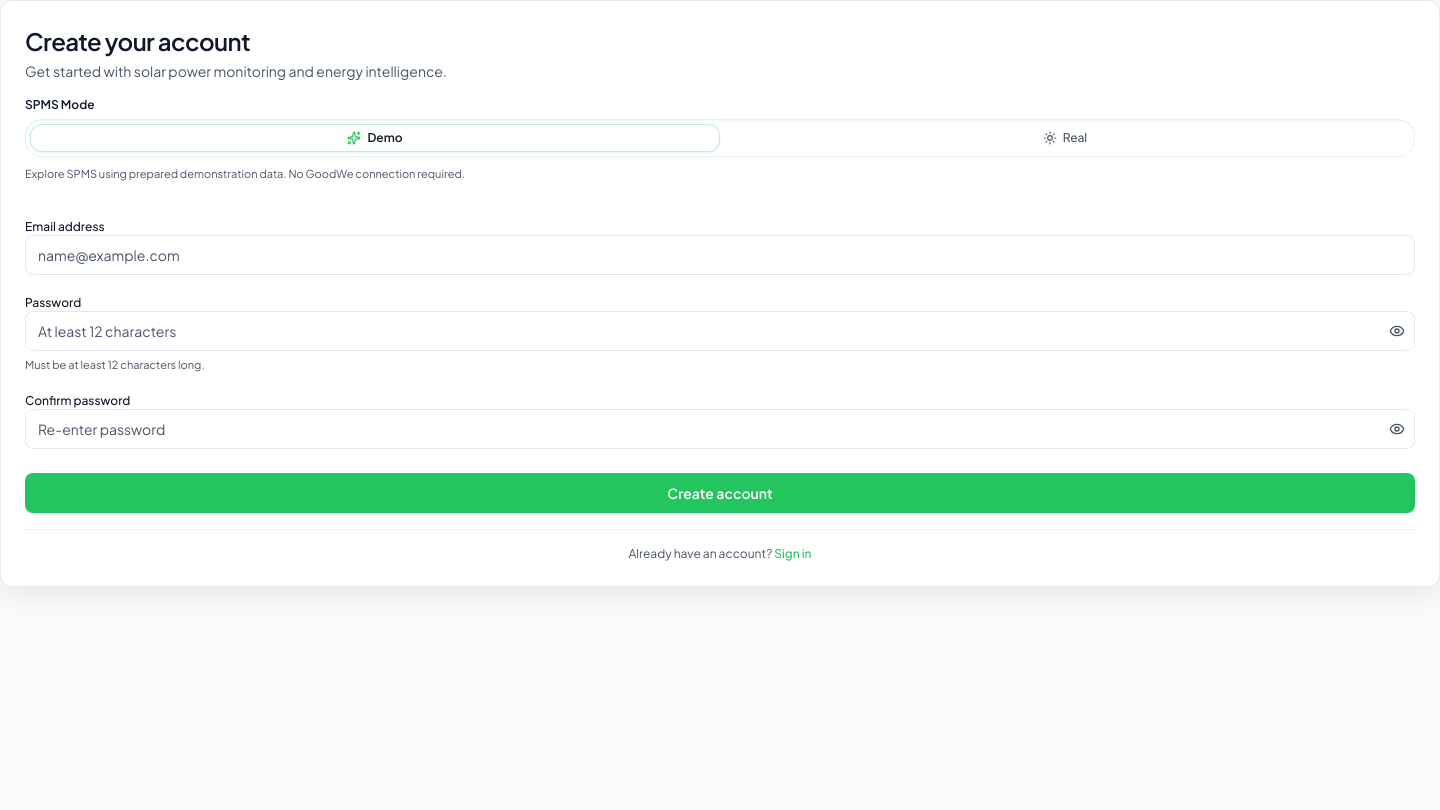
SPMS O2 Authentication Flow › Register page › displays server validation errors and rate-limiting safely
Type "duplicate@example.com" into the field labelled "Email address" at (720, 255), box [25,235,1415,275]
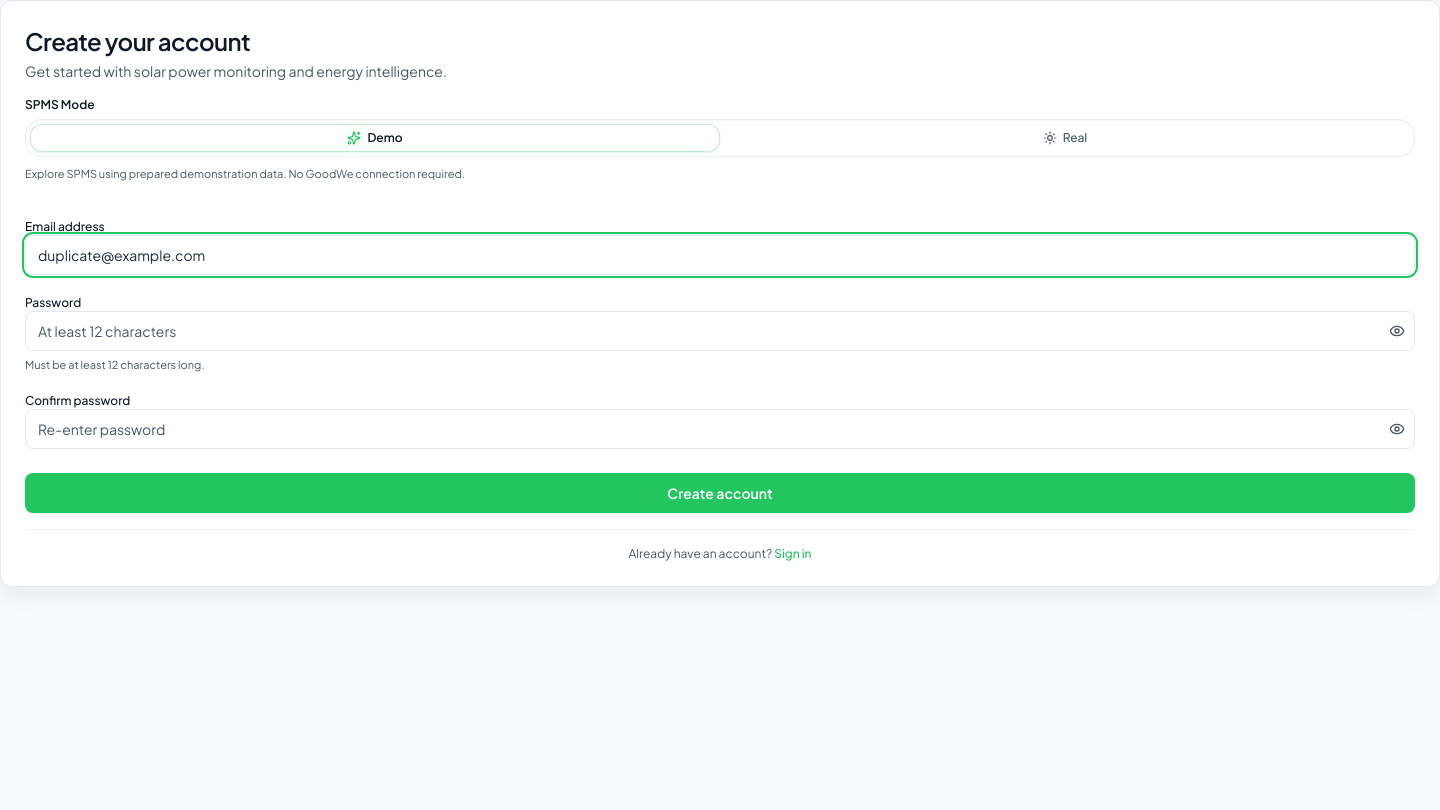
Type "correct-horse-battery-42" into the password field labelled "Password" at (720, 331), box [25,311,1415,351]
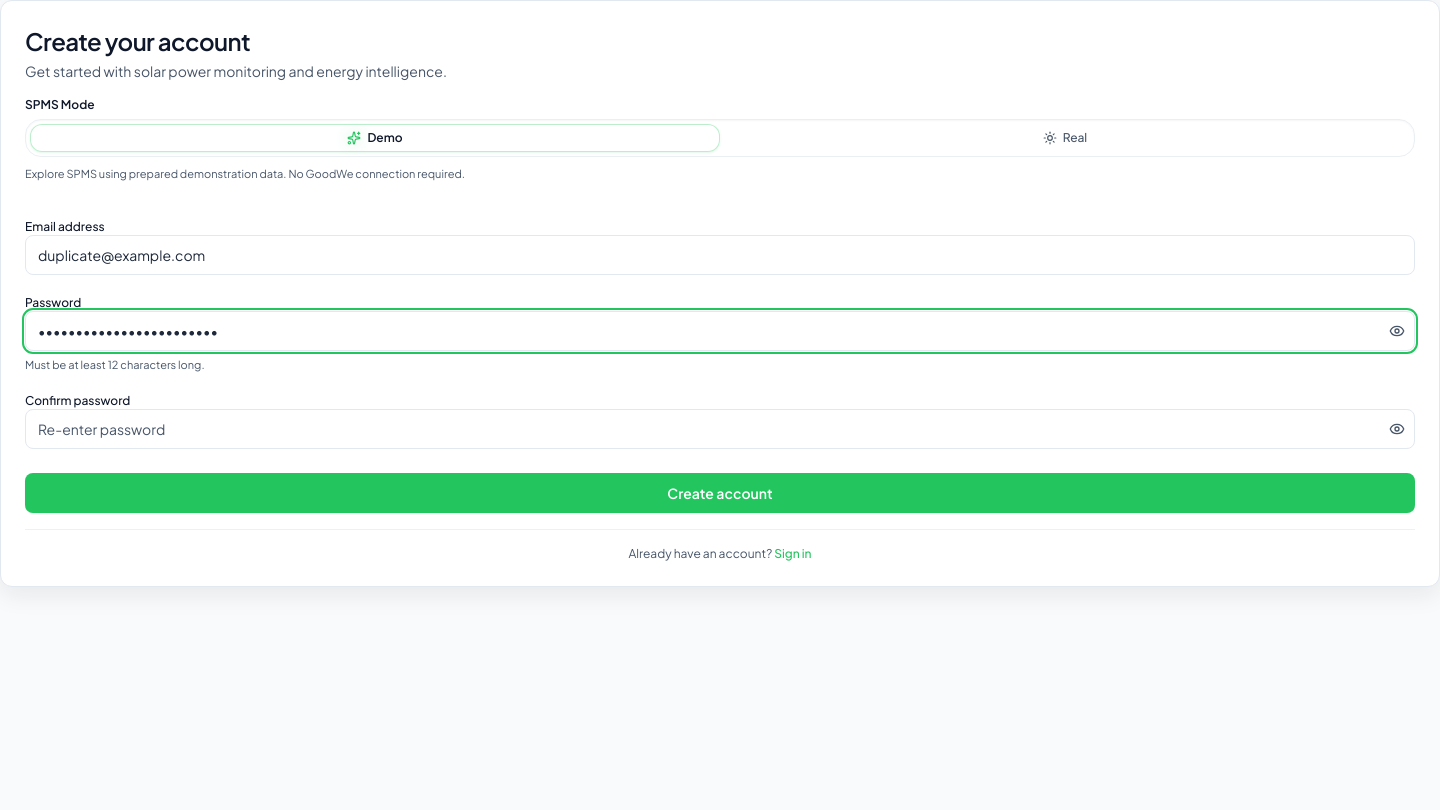
Type "correct-horse-battery-42" into the password field labelled "Confirm password" at (720, 429), box [25,409,1415,449]
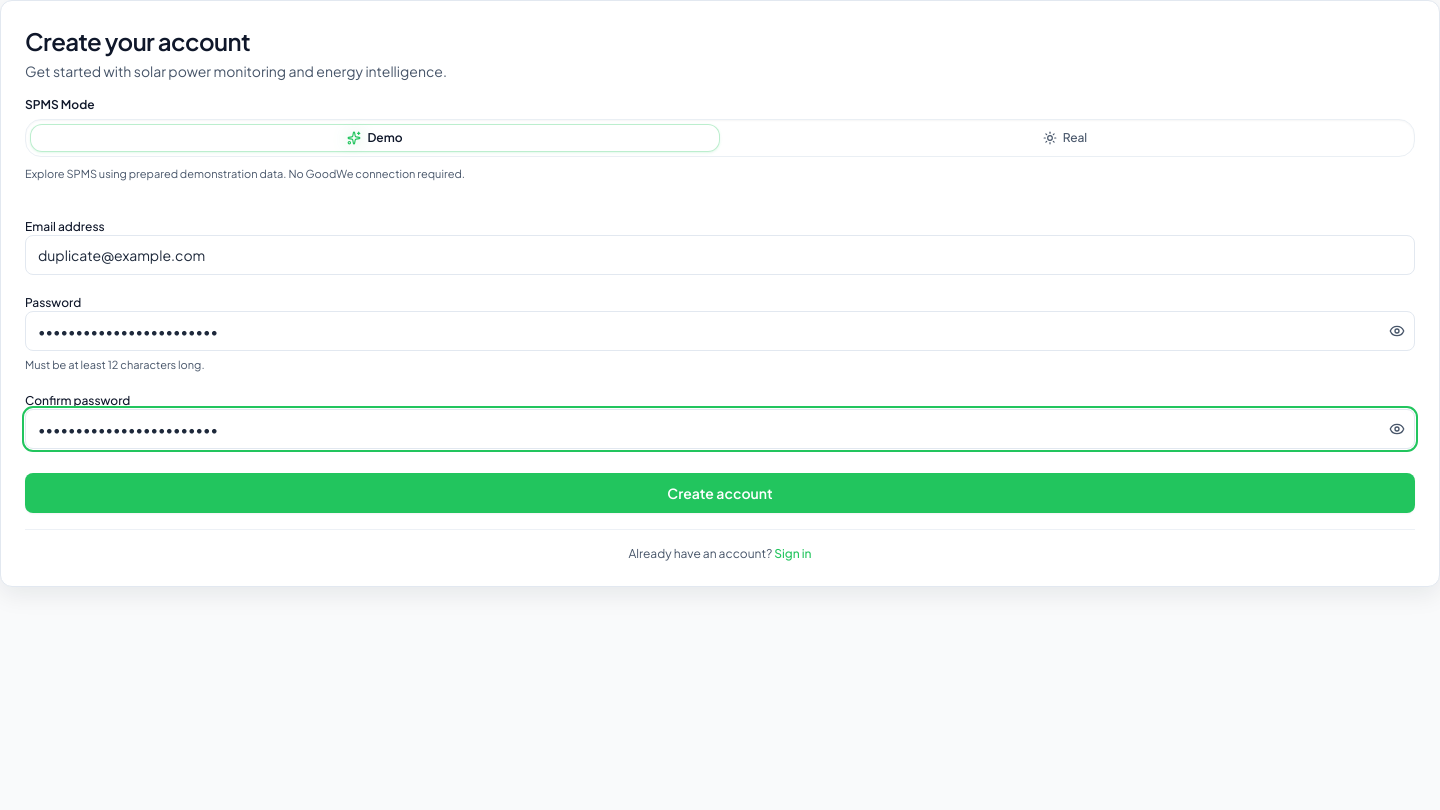
Click the button "Create account" at (720, 493), box [25,473,1415,513]
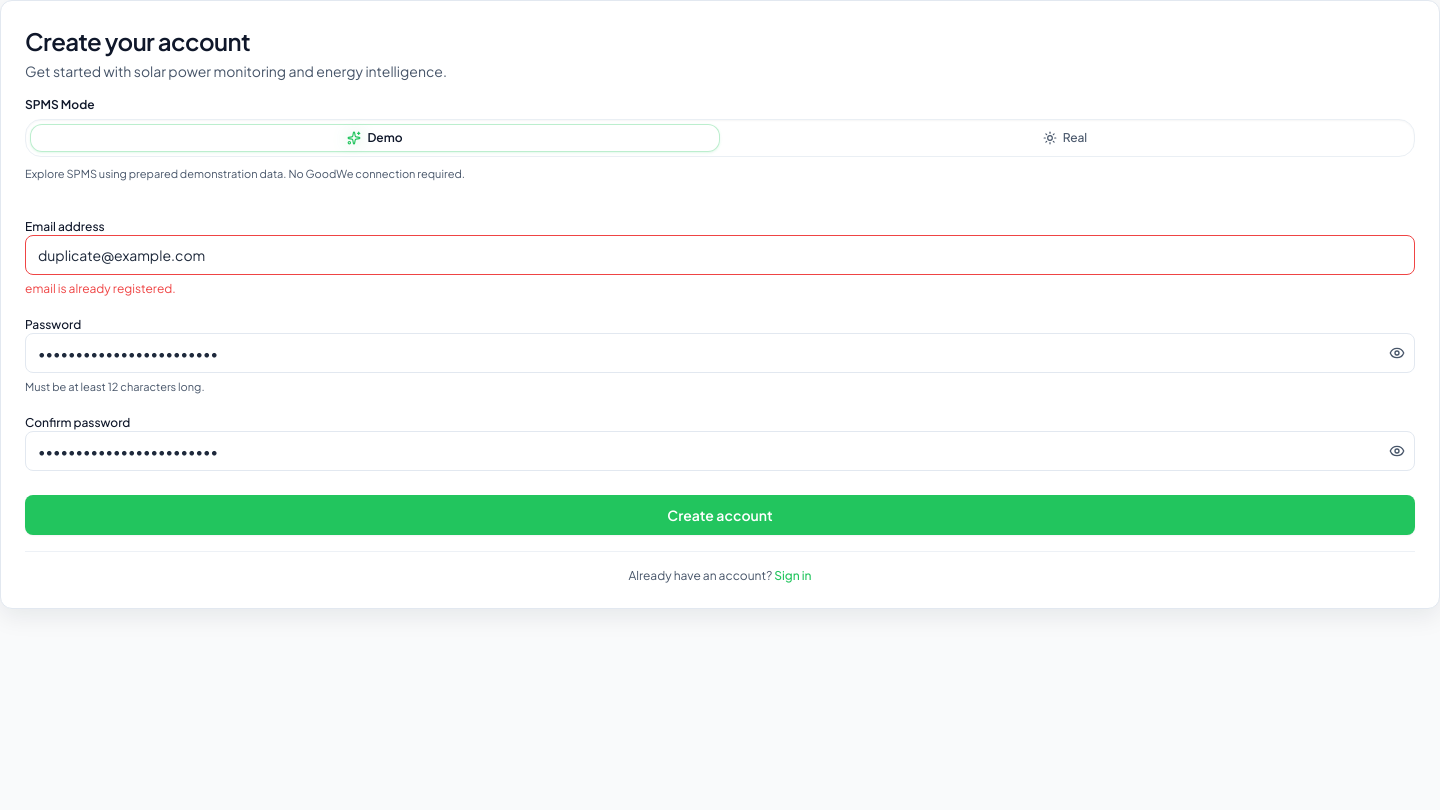
Expected: the text "email is already registered." is shown, [25,281,176,296]
